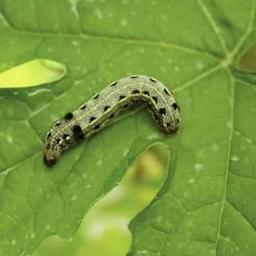Tobacco_budworm: (39, 73, 182, 168)
